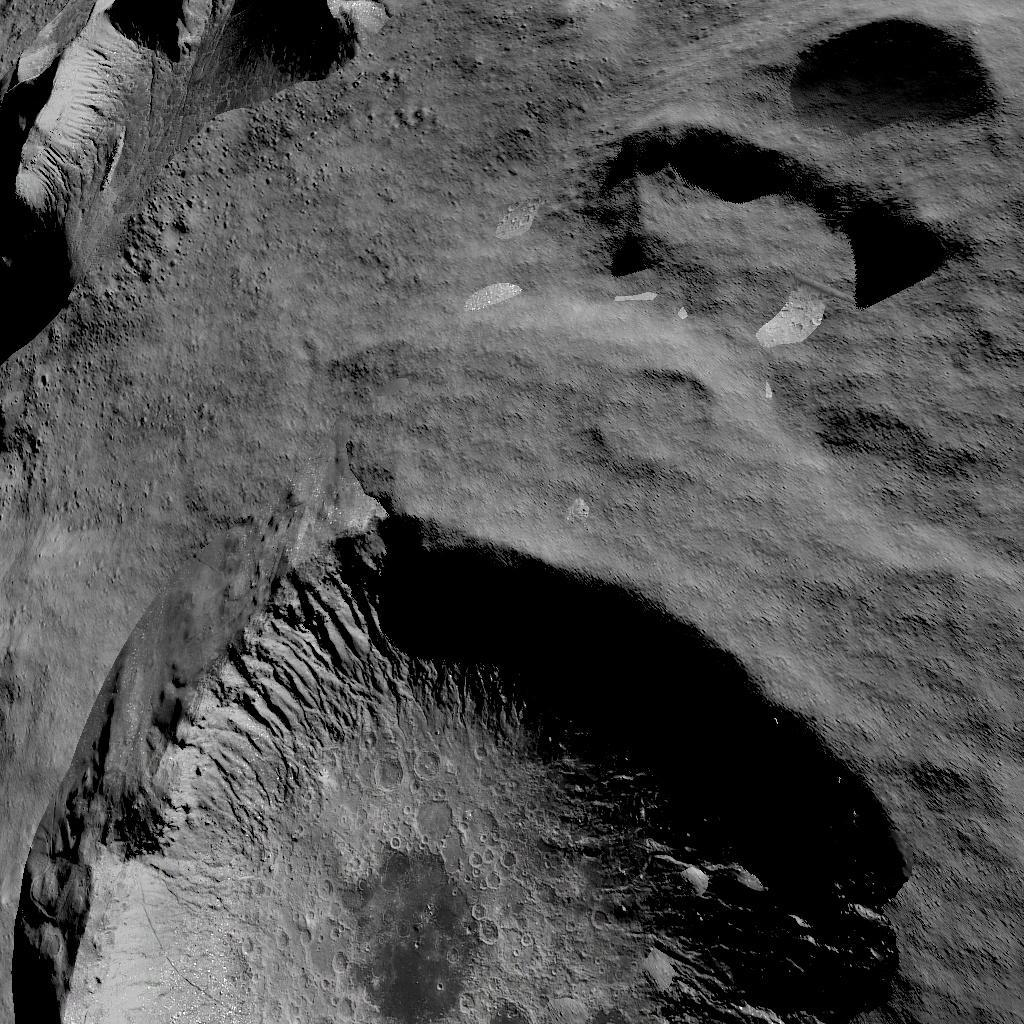Boulders: (0, 0, 455, 395)
Crater: (36, 523, 962, 1024), (603, 11, 1013, 310), (580, 346, 741, 488)
